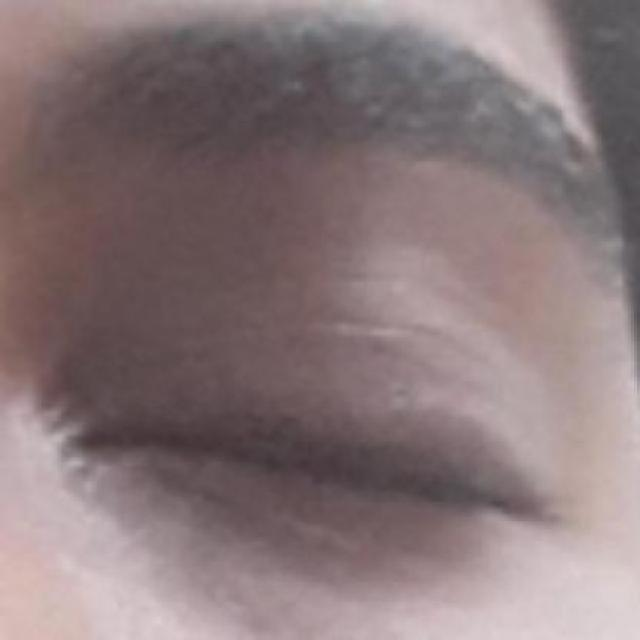drowsy: (68, 337, 550, 617)
